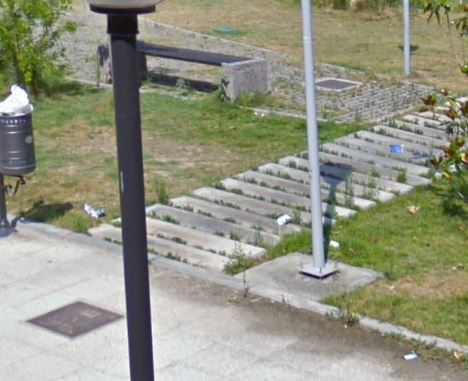trash: (79, 193, 105, 224), (274, 206, 293, 229), (384, 143, 408, 155), (401, 349, 424, 361), (405, 203, 427, 214), (323, 237, 342, 248)
